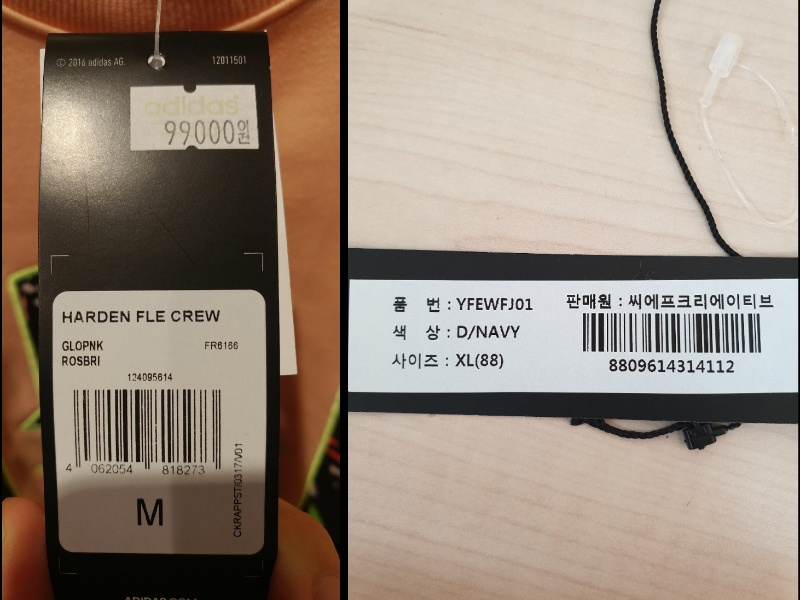tag: (41, 33, 278, 600), (347, 248, 800, 424)
text: (158, 118, 252, 148), (60, 308, 223, 325), (607, 356, 736, 377), (625, 293, 775, 311), (454, 295, 535, 313), (454, 321, 522, 342), (390, 293, 452, 316), (390, 321, 452, 343), (563, 292, 624, 311), (389, 352, 451, 370), (452, 350, 505, 371), (59, 337, 105, 354), (160, 463, 208, 478), (58, 353, 102, 369), (124, 371, 175, 384), (89, 462, 136, 476), (203, 337, 240, 352)
